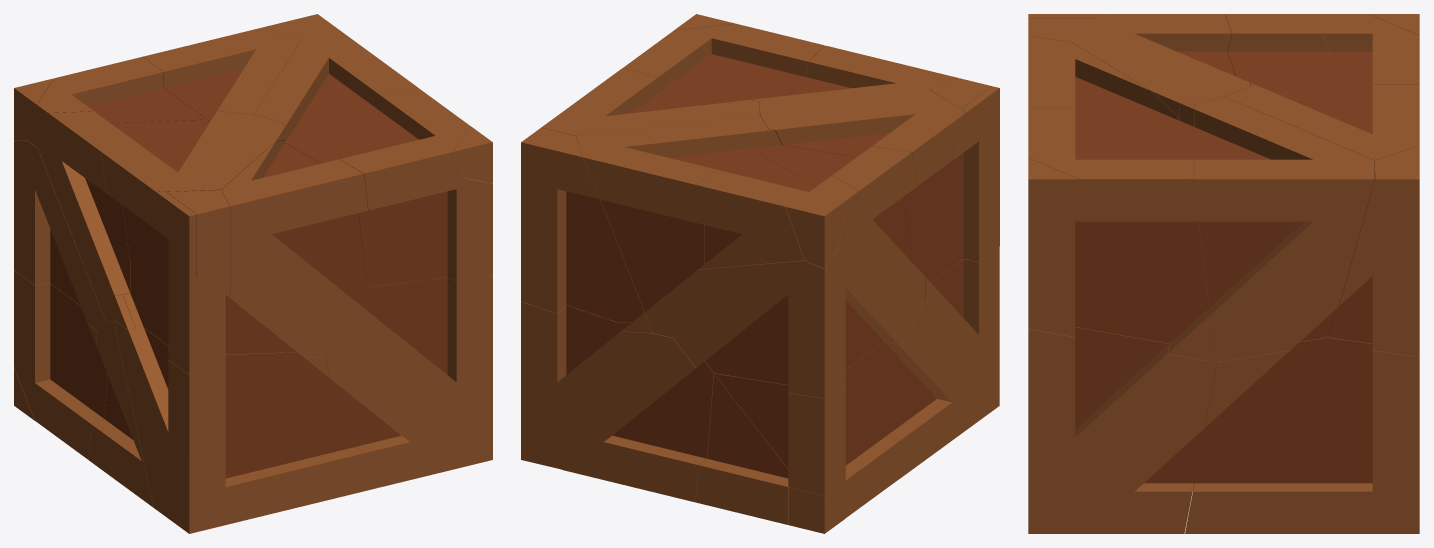
Rendered from Destructible.fbx.
The picture shows the model from 3 angles, left to right: view 1: azimuth 30°, elevation 25°; view 2: azimuth 150°, elevation 25°; view 3: azimuth 270°, elevation 25°; orthographic projection. The views are drawn at different scales.
Parts seen in each view (by area): view 1: Cube_cell.013, Cube_cell.023, Cube_cell.016, Cube_cell.018, Cube_cell.006, Cube_cell.011, Cube_cell.021, Cube_cell.015, Cube_cell.022, Cube_cell.019, Cube_cell.017, Cube_cell (+9 smaller); view 2: Cube_cell.002, Cube_cell.017, Cube_cell.007, Cube_cell.005, Cube_cell.006, Cube_cell.011, Cube_cell.003, Cube_cell.016, Cube_cell.012, Cube_cell.018, Cube_cell.022, Cube_cell.001 (+7 smaller); view 3: Cube_cell.012, Cube_cell.015, Cube_cell.013, Cube_cell.014, Cube_cell.005, Cube_cell.011, Cube_cell.016, Cube_cell.023, Cube_cell.017, Cube_cell.003, Cube_cell.018, Cube_cell.004 (+2 smaller).
Boxes of the visible parts, x1=… form: Cube_cell.013: x1=321, y1=276, x2=492, y2=487; Cube_cell.023: x1=221, y1=140, x2=367, y2=357; Cube_cell.016: x1=281, y1=88, x2=469, y2=286; Cube_cell.018: x1=38, y1=110, x2=220, y2=322; Cube_cell.006: x1=14, y1=270, x2=107, y2=459; Cube_cell.011: x1=101, y1=111, x2=285, y2=262; Cube_cell.021: x1=122, y1=190, x2=229, y2=371; Cube_cell.015: x1=254, y1=28, x2=417, y2=134; Cube_cell.022: x1=114, y1=321, x2=189, y2=533; Cube_cell.019: x1=249, y1=372, x2=378, y2=519; Cube_cell.017: x1=143, y1=29, x2=302, y2=120; Cube_cell: x1=225, y1=352, x2=321, y2=482; Cube_cell.002: x1=673, y1=242, x2=916, y2=398; Cube_cell.017: x1=576, y1=115, x2=768, y2=337; Cube_cell.007: x1=562, y1=322, x2=713, y2=502; Cube_cell.005: x1=521, y1=128, x2=651, y2=332; Cube_cell.006: x1=714, y1=338, x2=907, y2=518; Cube_cell.011: x1=759, y1=89, x2=965, y2=242; Cube_cell.003: x1=696, y1=154, x2=858, y2=269; Cube_cell.016: x1=622, y1=23, x2=824, y2=115; Cube_cell.012: x1=521, y1=301, x2=616, y2=469; Cube_cell.018: x1=760, y1=129, x2=924, y2=315; Cube_cell.022: x1=924, y1=247, x2=999, y2=431; Cube_cell.001: x1=695, y1=374, x2=845, y2=524; Cube_cell.012: x1=1185, y1=337, x2=1419, y2=533; Cube_cell.015: x1=1194, y1=97, x2=1374, y2=362; Cube_cell.013: x1=1028, y1=327, x2=1217, y2=533; Cube_cell.014: x1=1028, y1=179, x2=1216, y2=362; Cube_cell.005: x1=1328, y1=146, x2=1419, y2=356; Cube_cell.011: x1=1072, y1=14, x2=1250, y2=142; Cube_cell.016: x1=1028, y1=103, x2=1193, y2=179; Cube_cell.023: x1=1028, y1=36, x2=1194, y2=179; Cube_cell.017: x1=1225, y1=84, x2=1419, y2=160; Cube_cell.003: x1=1282, y1=14, x2=1419, y2=101; Cube_cell.018: x1=1225, y1=14, x2=1342, y2=95; Cube_cell.004: x1=1028, y1=158, x2=1078, y2=224.
Bounding box in the file's own units: 200 × 200 × 200.
